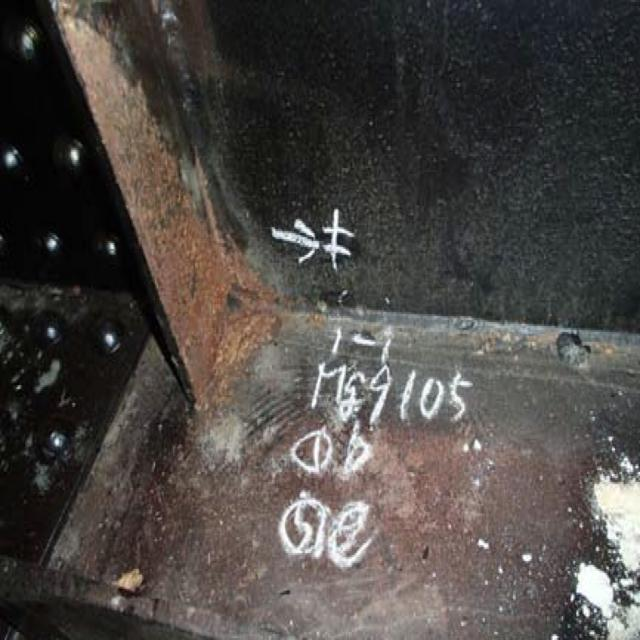corrosion: (63, 44, 280, 639)
